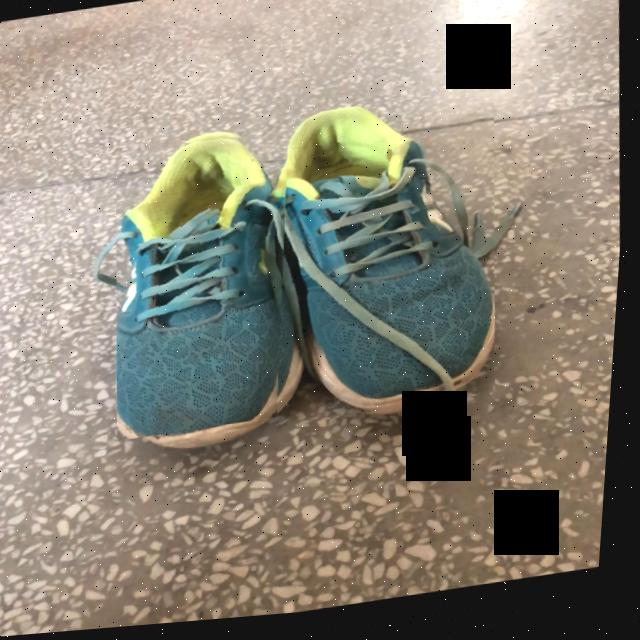shoe: (274, 113, 500, 417), (121, 142, 287, 439)
